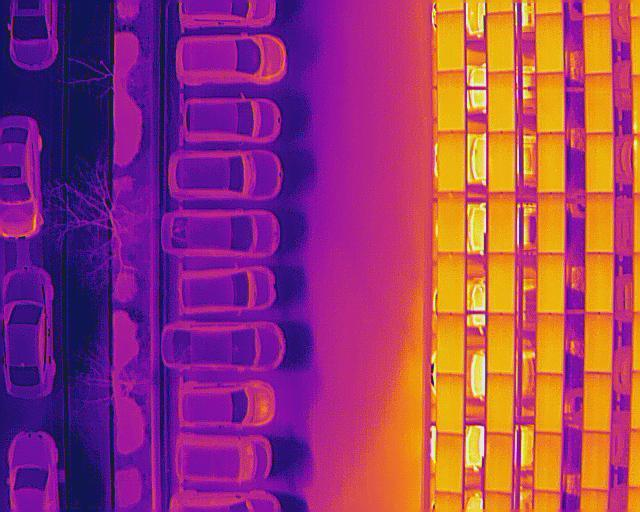No-Anomaly: (534, 373, 564, 432), (584, 312, 613, 373), (585, 251, 614, 312), (585, 193, 614, 252), (536, 133, 564, 193), (536, 312, 564, 372), (437, 10, 464, 72), (486, 375, 514, 434), (537, 252, 564, 313), (488, 314, 515, 375), (438, 191, 465, 252), (537, 72, 564, 133), (585, 134, 613, 192), (584, 372, 610, 434), (582, 434, 610, 491), (438, 133, 465, 192), (485, 434, 512, 493), (488, 253, 515, 312), (534, 432, 561, 491), (489, 72, 516, 131), (585, 73, 612, 132), (488, 133, 515, 192), (438, 72, 464, 133), (438, 313, 464, 374), (537, 194, 564, 252), (488, 12, 514, 72), (437, 374, 463, 434), (584, 15, 611, 72), (537, 12, 563, 71), (489, 193, 515, 252), (437, 434, 463, 493), (439, 254, 464, 315)
